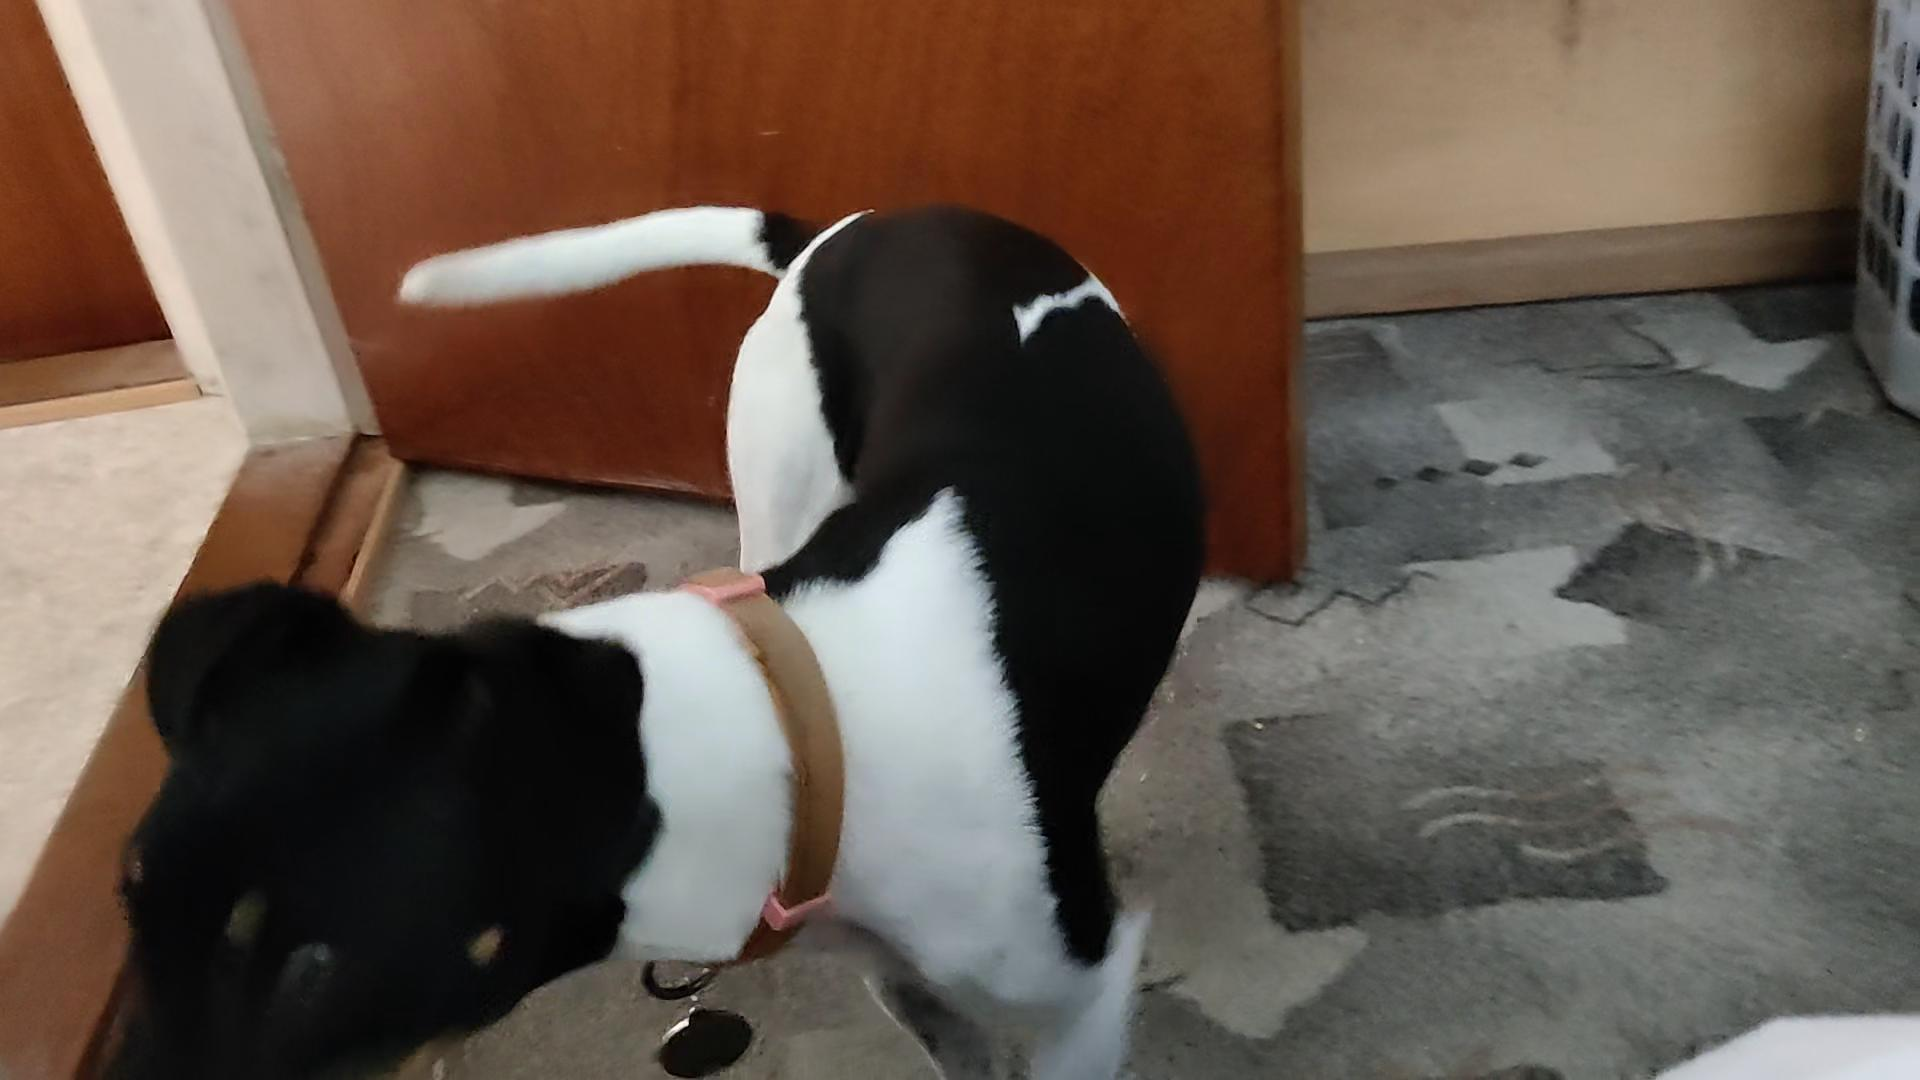Dog: (59, 181, 1267, 1079)
